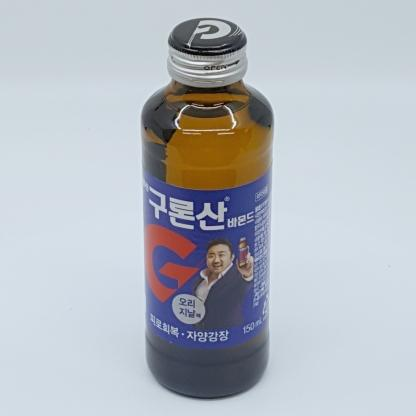---------------150ML: (141, 18, 273, 399)
